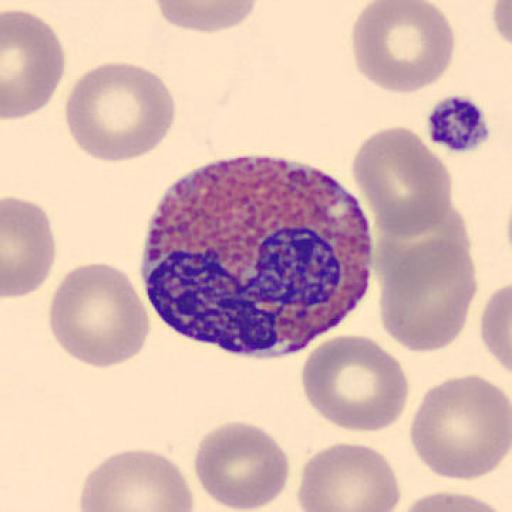Platelet: (424, 91, 493, 154)
RBC: (375, 235, 477, 355), (349, 124, 453, 240), (64, 61, 176, 165), (48, 261, 151, 371), (300, 332, 411, 434), (409, 373, 511, 483), (350, 0, 455, 96), (193, 419, 291, 512), (376, 198, 473, 283), (78, 447, 196, 512), (296, 440, 401, 512), (1, 8, 67, 122), (2, 194, 58, 300), (152, 0, 258, 35), (479, 280, 512, 373), (394, 491, 512, 512), (490, 1, 512, 53)
WBC: (140, 156, 373, 357)
